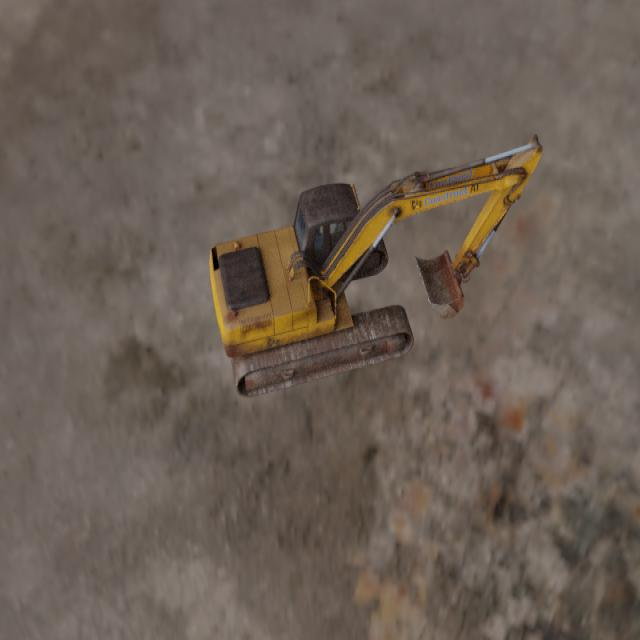excavator: (208, 134, 543, 398)
